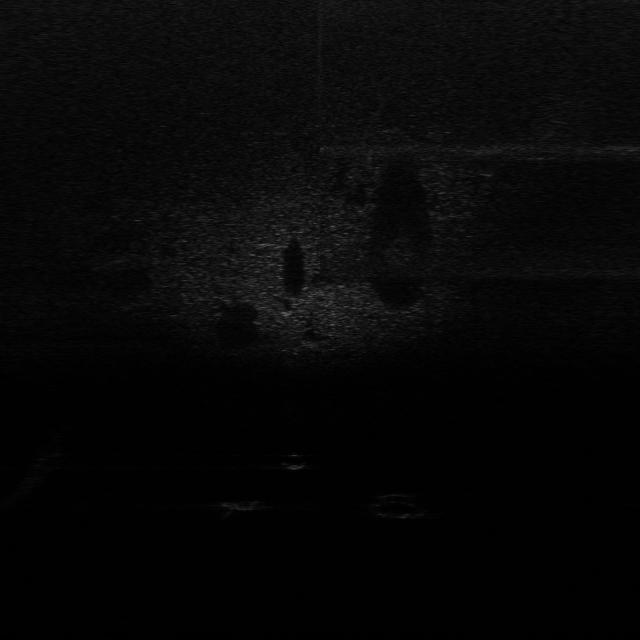ball: (278, 451, 310, 472)
square cage: (210, 494, 274, 520)
tyre: (367, 491, 432, 524)
